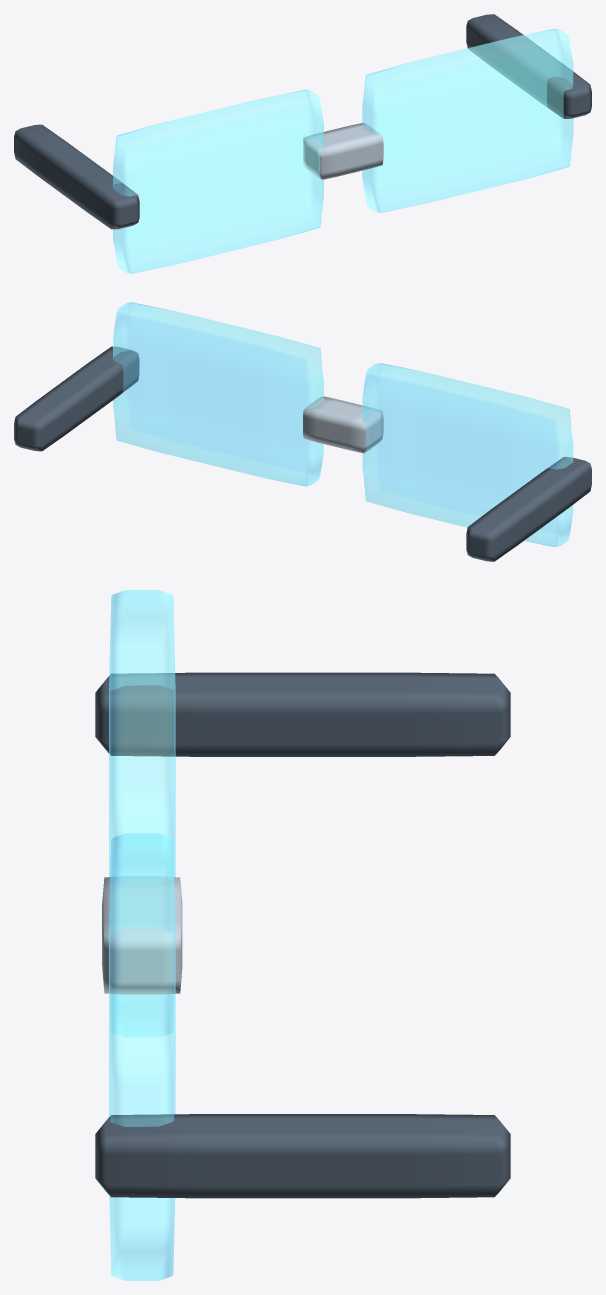
The model's file is glasses-spectrum.glb.
The picture shows the model from 3 angles, top to bottom: view 1: azimuth 30°, elevation 25°; view 2: azimuth 150°, elevation 25°; view 3: azimuth 270°, elevation 25°; orthographic projection. The views are drawn at different scales.
Visible parts, largest first — view 1: LensR, LensL, ArmL, ArmR, Bridge; view 2: LensR, LensL, ArmL, ArmR, Bridge; view 3: ArmR, ArmL, LensR, LensL, Bridge.
Boxes of the visible parts, left/top/right/bottom form: LensR: left=362, top=29, right=573, bottom=212; LensL: left=113, top=89, right=323, bottom=273; ArmL: left=14, top=124, right=139, bottom=229; ArmR: left=466, top=14, right=591, bottom=118; Bridge: left=303, top=123, right=383, bottom=179; LensR: left=113, top=302, right=323, bottom=486; LensL: left=362, top=363, right=573, bottom=546; ArmL: left=466, top=457, right=591, bottom=561; ArmR: left=14, top=346, right=139, bottom=451; Bridge: left=303, top=396, right=383, bottom=453; ArmR: left=95, top=1114, right=510, bottom=1198; ArmL: left=95, top=672, right=510, bottom=756; LensR: left=109, top=833, right=175, bottom=1280; LensL: left=109, top=590, right=175, bottom=1037; Bridge: left=102, top=876, right=182, bottom=994.
Bounding box in the file's own units: 1.66 × 0.45 × 0.62.
